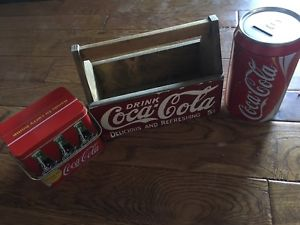can: (222, 4, 300, 131)
